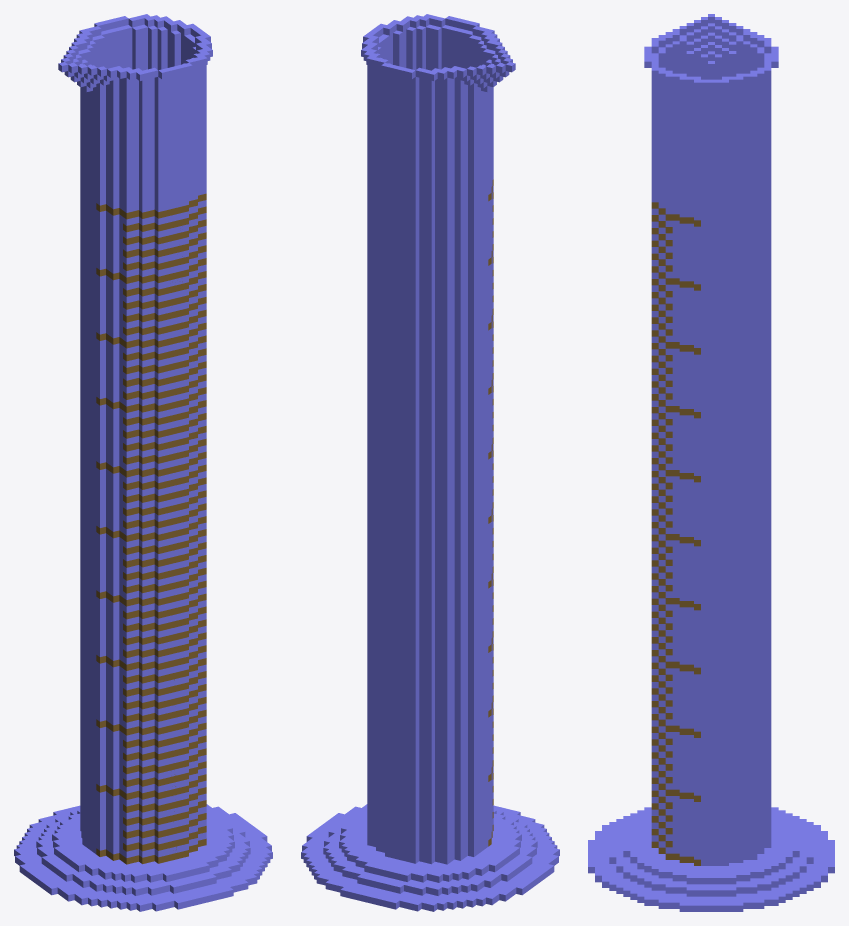
Rendered from Measuring cylinder1-6-1.fbx.
3 views of the same model, side by side, from view 1: azimuth 30°, elevation 25°; view 2: azimuth 150°, elevation 25°; view 3: azimuth 270°, elevation 25° (orthographic).
Parts seen in each view (by area): view 1: Measuring cylinder1-6.001, Measuring cylinder1-6.002; view 2: Measuring cylinder1-6.001, Measuring cylinder1-6.002; view 3: Measuring cylinder1-6.001, Measuring cylinder1-6.002.
Boxes of the visible parts, x1,y1,x2,y2 form: Measuring cylinder1-6.001: (14, 14, 272, 911); Measuring cylinder1-6.002: (96, 193, 206, 864); Measuring cylinder1-6.001: (301, 14, 559, 911); Measuring cylinder1-6.002: (488, 179, 493, 846); Measuring cylinder1-6.001: (588, 14, 834, 911); Measuring cylinder1-6.002: (651, 202, 700, 865).
Bounding box in the file's own units: 3.5 × 12.6 × 3.5.
